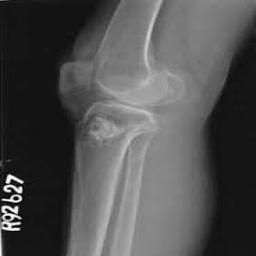cancer: (77, 117, 132, 149)
